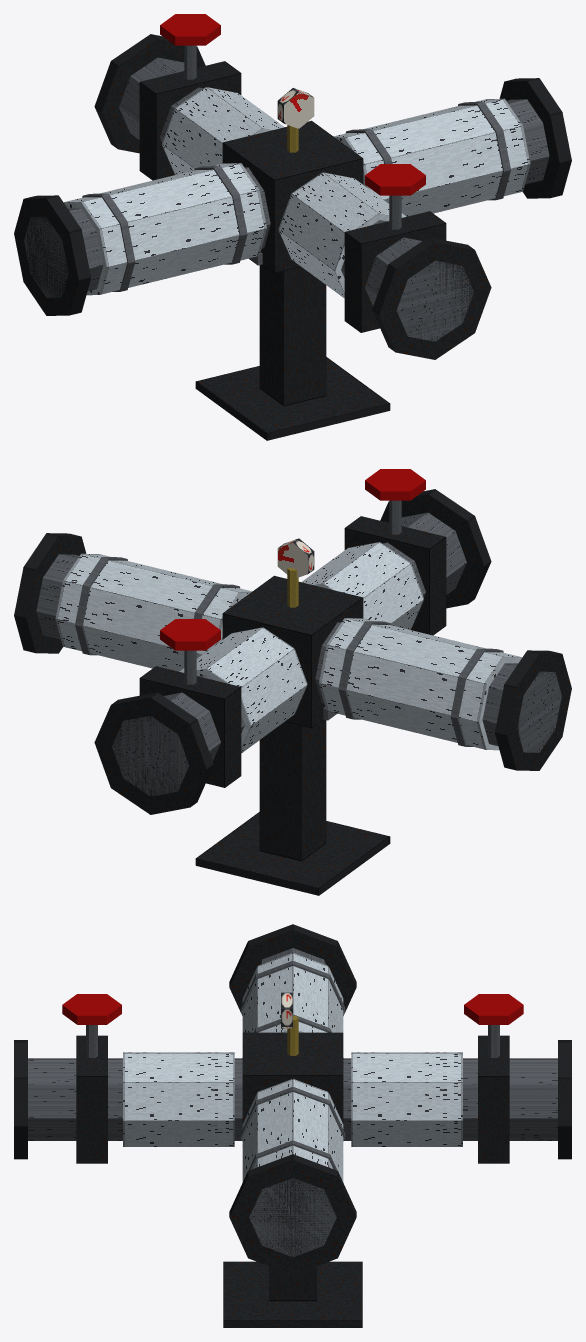
Rendered from coolant_pipe_junction.glb.
3 renders of one model, top to bottom at view 1: azimuth 30°, elevation 25°; view 2: azimuth 150°, elevation 25°; view 3: azimuth 270°, elevation 25°, orthographic. The views are drawn at different scales.
Parts seen in each view (by area): view 1: coolant_pipe_junction; view 2: coolant_pipe_junction; view 3: coolant_pipe_junction.
Part boxes in pixels (bbox=[...]): coolant_pipe_junction: bbox=[14, 14, 571, 440]; coolant_pipe_junction: bbox=[14, 469, 571, 895]; coolant_pipe_junction: bbox=[14, 924, 571, 1327].
Bounding box in the file's own units: 1.4 × 0.8465 × 1.4.
1 material, 1 textured.
